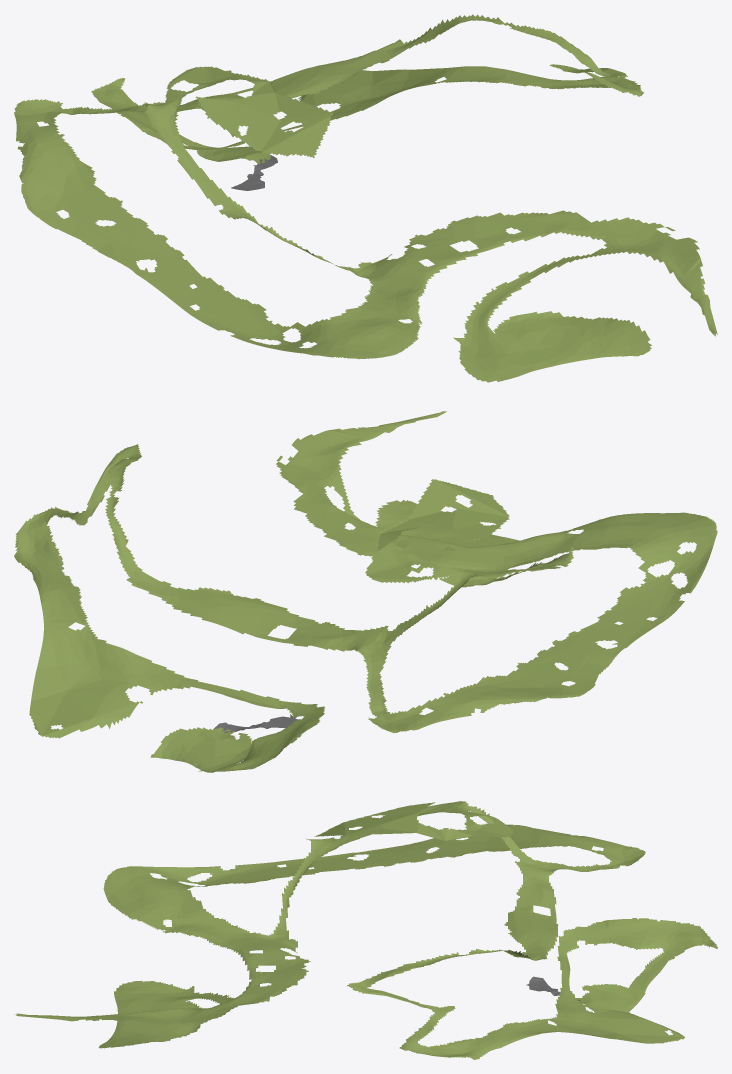
File: Island03_path01 1.fbx
The picture shows the model from 3 angles, top to bottom: view 1: azimuth 30°, elevation 25°; view 2: azimuth 150°, elevation 25°; view 3: azimuth 270°, elevation 25°; orthographic projection. The views are drawn at different scales.
Visible parts, largest first — view 1: Walkable_area; view 2: Walkable_area; view 3: Walkable_area.
Boxes of the visible parts, x1,y1,x2,y2 form: Walkable_area: [14, 14, 717, 382]; Walkable_area: [14, 411, 717, 772]; Walkable_area: [14, 801, 717, 1059].
Bounding box in the file's own units: 163 × 47.99 × 206.
